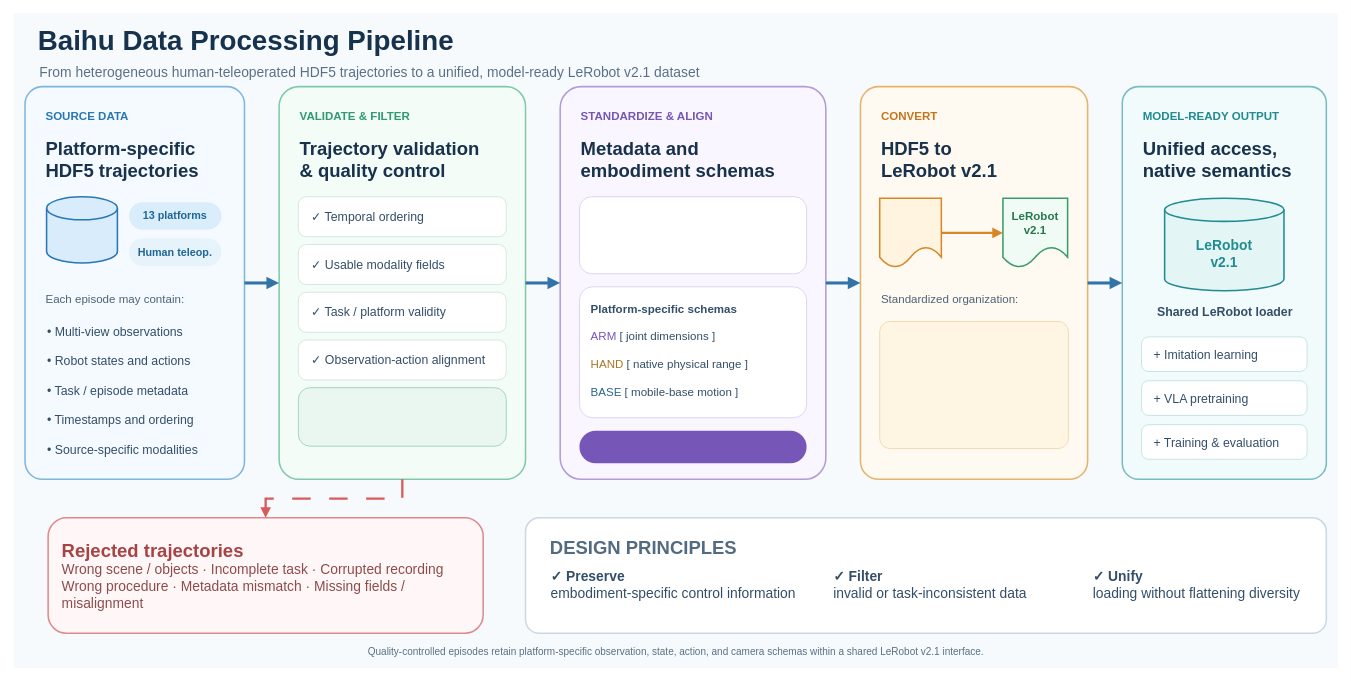
Image size: 1351x681. Some labels were removed from this diagram. The centre of each missing label's shape, as x and y in pixels:
Episodes Frames Observations States Actions Task labels Episode-level metadata: point 973,385
H5: point 910,232
HDF5: point 81,229
Metadata Task, platform, episode and source-specific fields: point 693,235
Preserve native control semantics: point 692,446
✓ Consistent with intended task specification: point 402,416
